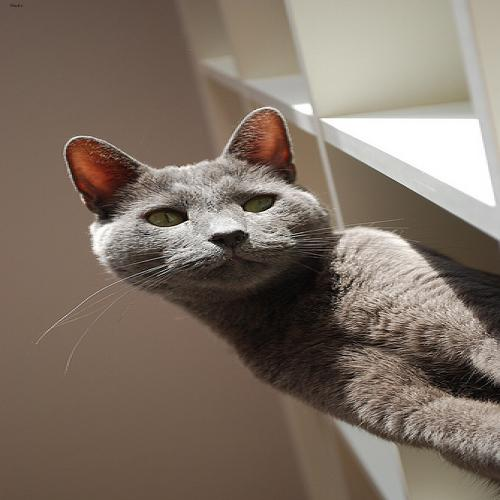rblue: (52, 102, 346, 305)
